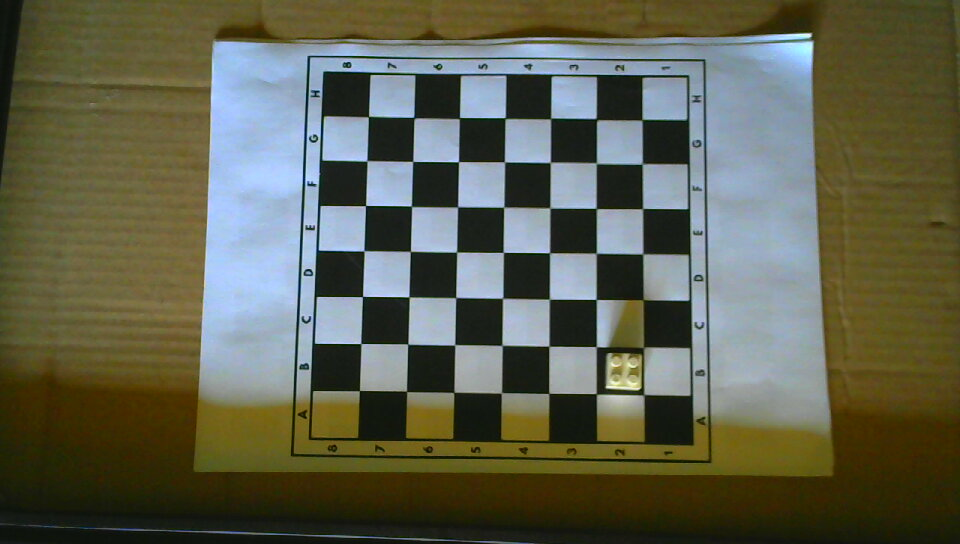wp: (604, 349, 643, 392)
